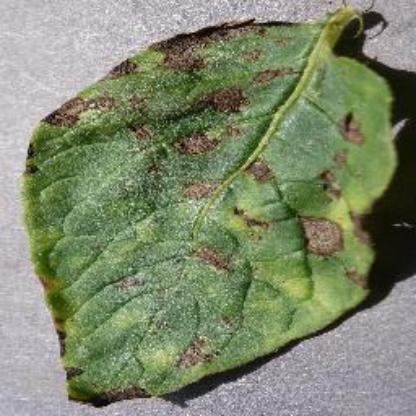Early-Blight: (20, 0, 415, 406)
